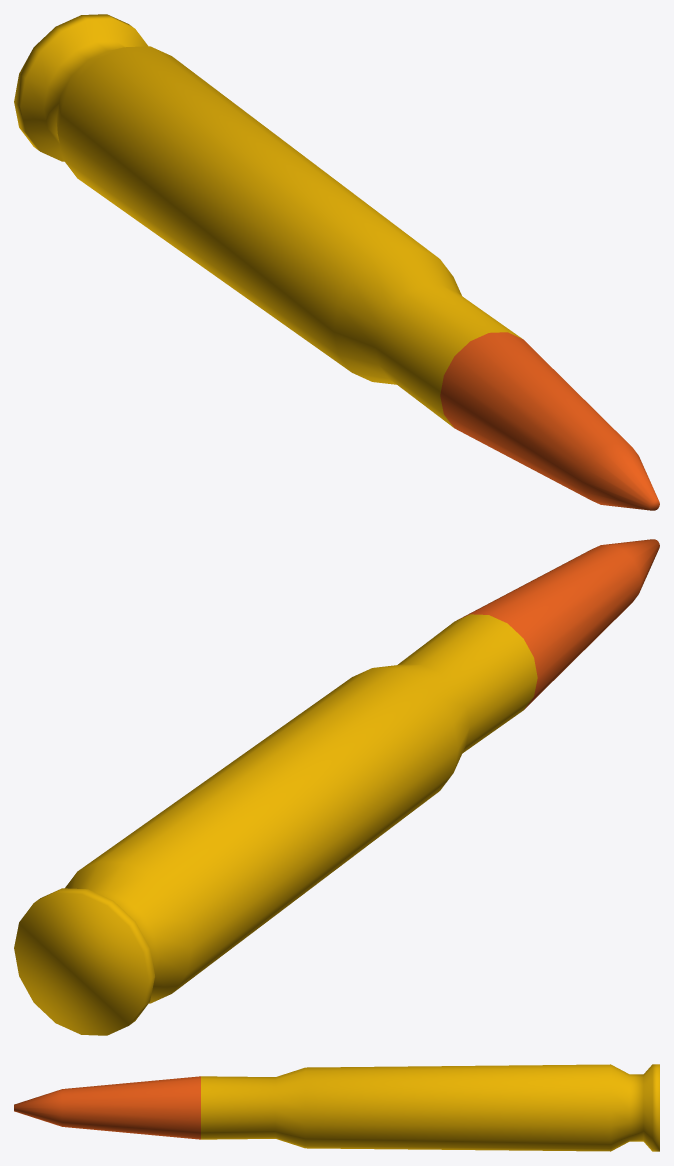
The model's file is turret-bullet.fbx.
The picture shows the model from 3 angles, top to bottom: view 1: azimuth 30°, elevation 25°; view 2: azimuth 150°, elevation 25°; view 3: azimuth 270°, elevation 25°; orthographic projection. The views are drawn at different scales.
Parts seen in each view (by area): view 1: Cylinder; view 2: Cylinder; view 3: Cylinder.
Boxes of the visible parts, left/top/right/bottom form: Cylinder: left=14, top=14, right=659, bottom=510; Cylinder: left=14, top=539, right=659, bottom=1035; Cylinder: left=14, top=1064, right=659, bottom=1151.
Bounding box in the file's own units: 10.31 × 10.31 × 76.13.
